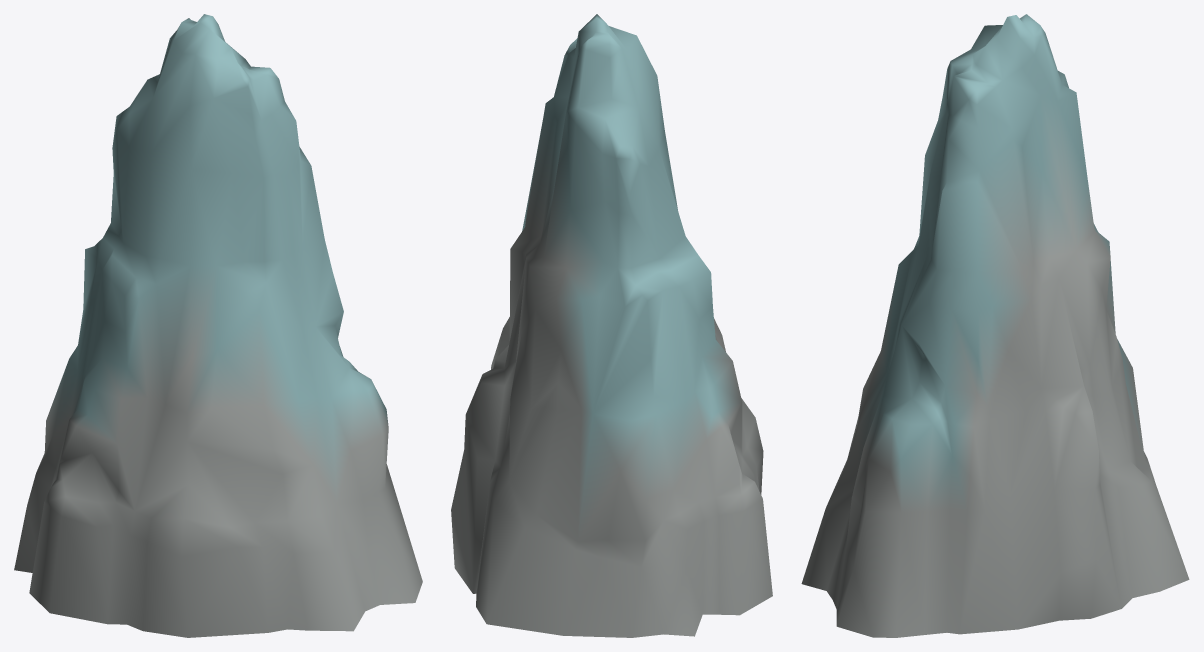
The picture shows the model from 3 angles, left to right: view 1: azimuth 30°, elevation 25°; view 2: azimuth 150°, elevation 25°; view 3: azimuth 270°, elevation 25°; orthographic projection.
Parts seen in each view (by area): view 1: G:\FFXIV-MapTools\exports\n4f3\bg\ex3\01_nvt_n4\fld\n4f3\bgp; view 2: G:\FFXIV-MapTools\exports\n4f3\bg\ex3\01_nvt_n4\fld\n4f3\bgp; view 3: G:\FFXIV-MapTools\exports\n4f3\bg\ex3\01_nvt_n4\fld\n4f3\bgp.
Part boxes in pixels (left/top/right/bottom): G:\FFXIV-MapTools\exports\n4f3\bg\ex3\01_nvt_n4\fld\n4f3\bgp: left=14, top=14, right=422, bottom=637; G:\FFXIV-MapTools\exports\n4f3\bg\ex3\01_nvt_n4\fld\n4f3\bgp: left=451, top=14, right=772, bottom=637; G:\FFXIV-MapTools\exports\n4f3\bg\ex3\01_nvt_n4\fld\n4f3\bgp: left=801, top=14, right=1189, bottom=637.
Size of the model in its own units: 3.35 by 5.65 by 3.55.
